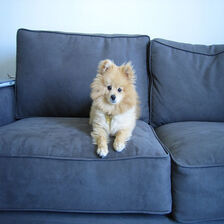laptop: (1, 79, 22, 98)
